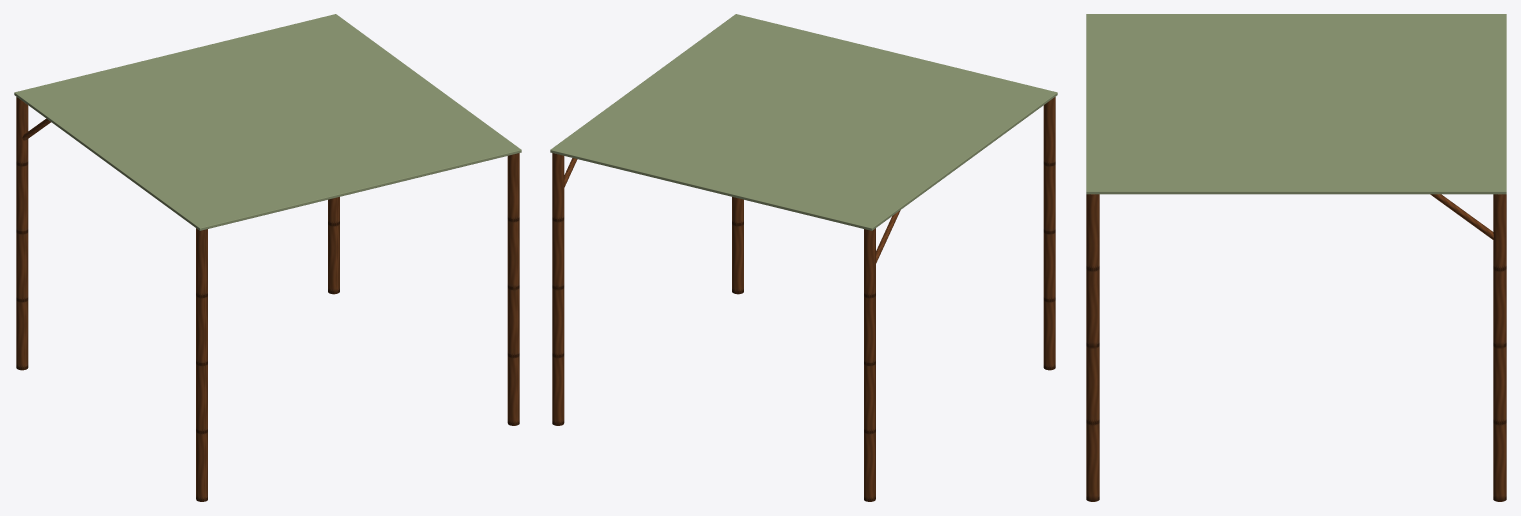
The model's file is creature-husbandry-and-transport-shade-sail-frame-1f24ce71__23991.glb.
3 views of the same model, side by side, from view 1: azimuth 30°, elevation 25°; view 2: azimuth 150°, elevation 25°; view 3: azimuth 270°, elevation 25° (orthographic). The views are drawn at different scales.
Visible parts, largest first — view 1: shade-sail-frame; view 2: shade-sail-frame; view 3: shade-sail-frame.
Part boxes in pixels (<box>): shade-sail-frame: <box>14,14,521,501</box>; shade-sail-frame: <box>550,14,1057,501</box>; shade-sail-frame: <box>1086,14,1506,501</box>.
Bounding box in the file's own units: 3.1 × 2.52 × 3.1.
2 materials, 1 textured.
